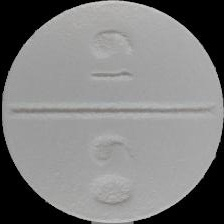67046-739: (0, 0, 224, 224)
